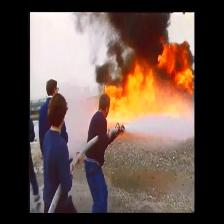fire: (114, 61, 192, 113)
smoke: (115, 11, 166, 54)
